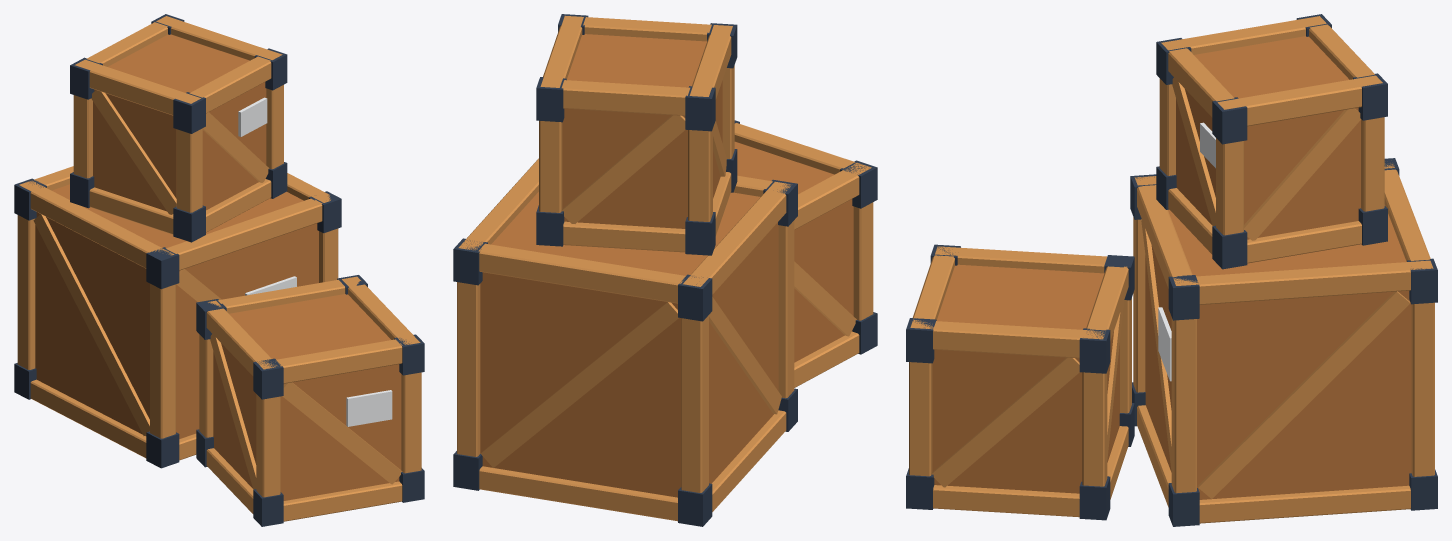
The model's file is cajas_andenes.glb.
The picture shows the model from 3 angles, left to right: view 1: azimuth 30°, elevation 25°; view 2: azimuth 150°, elevation 25°; view 3: azimuth 270°, elevation 25°; orthographic projection. The views are drawn at different scales.
Parts seen in each view (by area): view 1: Cajas_Andenes; view 2: Cajas_Andenes; view 3: Cajas_Andenes.
Part boxes in pixels (box(x1,y1,x2,y2)): Cajas_Andenes: box(14, 14, 424, 526); Cajas_Andenes: box(453, 14, 877, 526); Cajas_Andenes: box(906, 14, 1437, 526).
Size of the model in its own units: 1.03 by 1.46 by 1.77.
